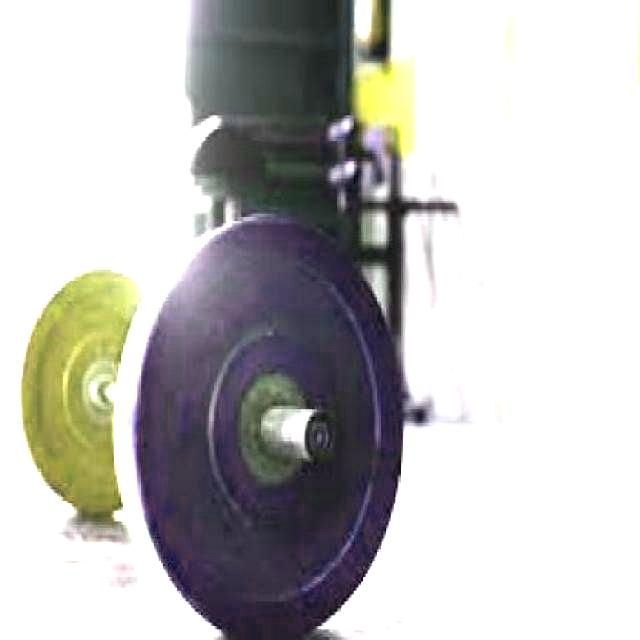barbell: (106, 206, 427, 640)
